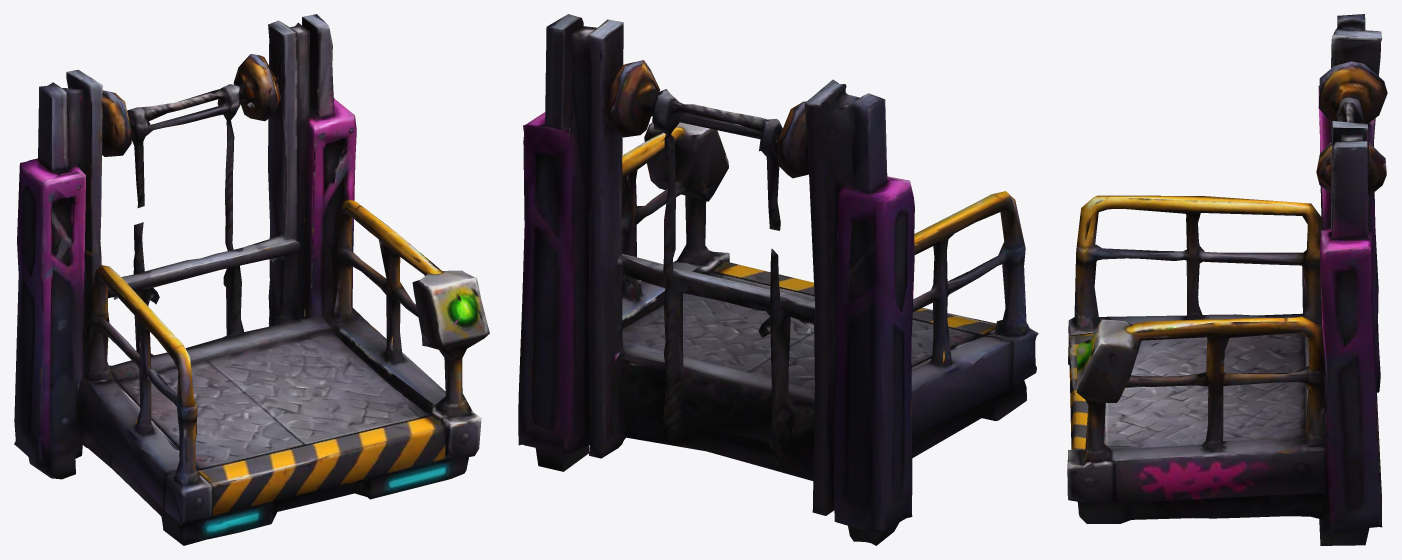
The model's file is GW_INT_lift_platform.glb.
3 views of the same model, side by side, from view 1: azimuth 30°, elevation 25°; view 2: azimuth 150°, elevation 25°; view 3: azimuth 270°, elevation 25° (orthographic). The views are drawn at different scales.
Visible parts, largest first — view 1: tripo_node_049b8d3e-0b0e-46fc-9577-9793e295c0f5; view 2: tripo_node_049b8d3e-0b0e-46fc-9577-9793e295c0f5; view 3: tripo_node_049b8d3e-0b0e-46fc-9577-9793e295c0f5.
Part boxes in pixels (box(x1,y1,x2,y2)): tripo_node_049b8d3e-0b0e-46fc-9577-9793e295c0f5: box(14, 14, 489, 545); tripo_node_049b8d3e-0b0e-46fc-9577-9793e295c0f5: box(518, 14, 1038, 545); tripo_node_049b8d3e-0b0e-46fc-9577-9793e295c0f5: box(1067, 14, 1387, 545).
Bounding box in the file's own units: 0.8862 × 0.9985 × 0.7319.
Materials: 1 (1 with a texture image).
